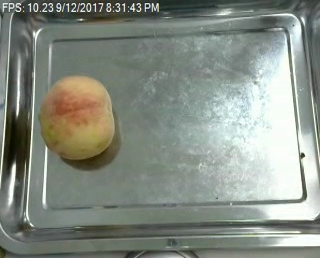Peach: (40, 73, 115, 161)
